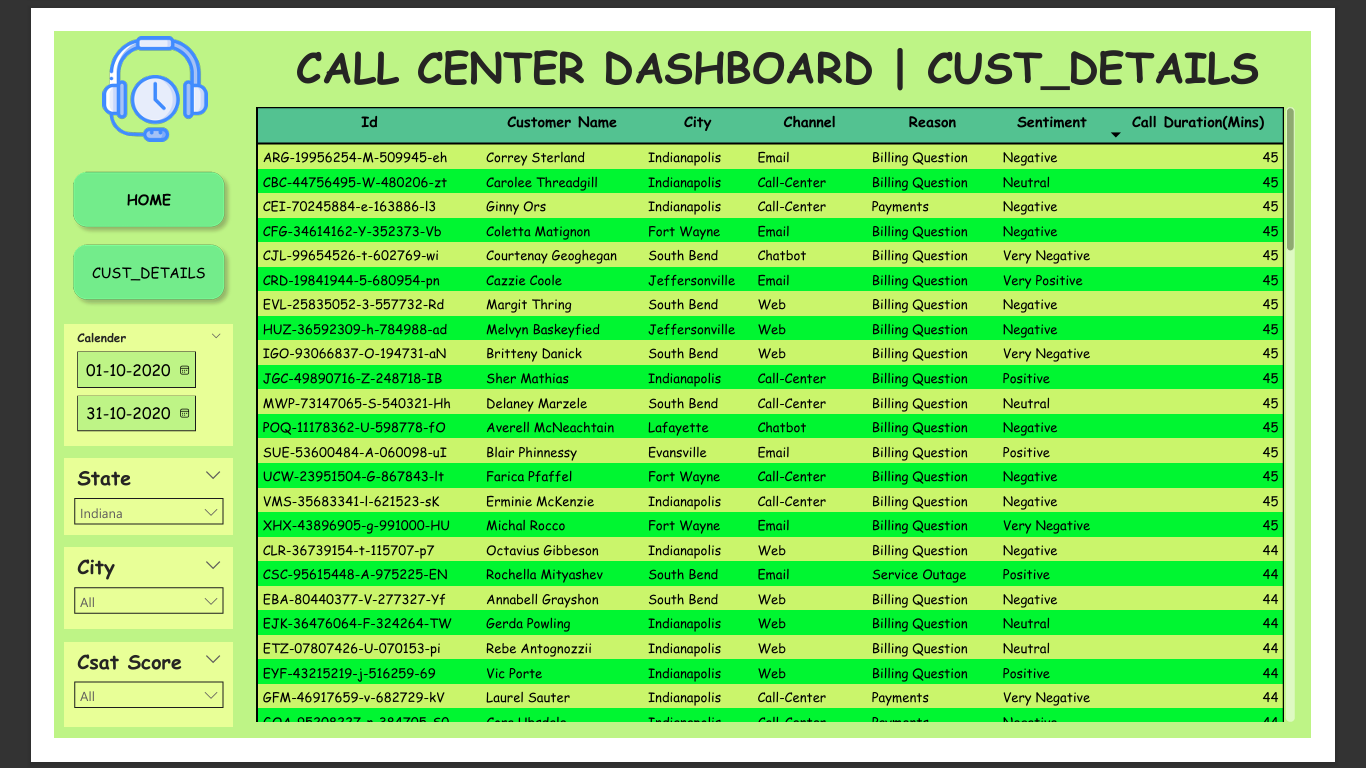

What the dashboard file says about the page in this screenshot:
{"tool":"powerbi","page":{"name":"CUST_DETAILS","canvas":[1280,720],"ordinal":1},"visuals":[{"type":"textbox","box":[204.1,0,1064.4,72.3],"z":0},{"type":"image","box":[0,0,203.9,117.1],"z":1000},{"type":"slicer","fields":{"Values":["Call Center_Call Center.Call Timestamp"]},"box":[10.1,297.8,172,124.3],"z":2000},{"type":"slicer","fields":{"Values":["Call Center_Call Center.State"]},"box":[10.1,435.2,172,78.1],"z":3000},{"type":"slicer","fields":{"Values":["Call Center_Call Center.City"]},"box":[10.1,526.3,172,82.4],"z":4000},{"type":"slicer","fields":{"Values":["Call Center_Call Center.Csat Score"]},"box":[10.1,621.7,172,86.7],"z":5000},{"type":"tableEx","fields":{"Values":["Call Center_Call Center.Id","Call Center_Call Center.Customer Name","Call Center_Call Center.City","Call Center_Call Center.Channel","Call Center_Call Center.Reason","Call Center_Call Center.Sentiment","Sum(Call Center_Call Center.Call Duration In Minutes)"]},"box":[199.5,72.3,1068.4,636.1],"z":6000},{"type":"pageNavigator","box":[10.1,134.5,172,147.5],"z":7000}]}

Visuals, with their boxes in screenshot pixels (x1, y1, x2, y2), scaled from the page's 1280x720 canvas onto the 1366x768 screenshot:
textbox: (218,0,1354,77)
image: (0,0,218,125)
slicer - Call Center_Call Center.Call Timestamp: (11,318,194,450)
slicer - Call Center_Call Center.State: (11,464,194,548)
slicer - Call Center_Call Center.City: (11,561,194,649)
slicer - Call Center_Call Center.Csat Score: (11,663,194,756)
tableEx - Call Center_Call Center.Id x Call Center_Call Center.Customer Name: (213,77,1353,756)
pageNavigator: (11,143,194,301)
